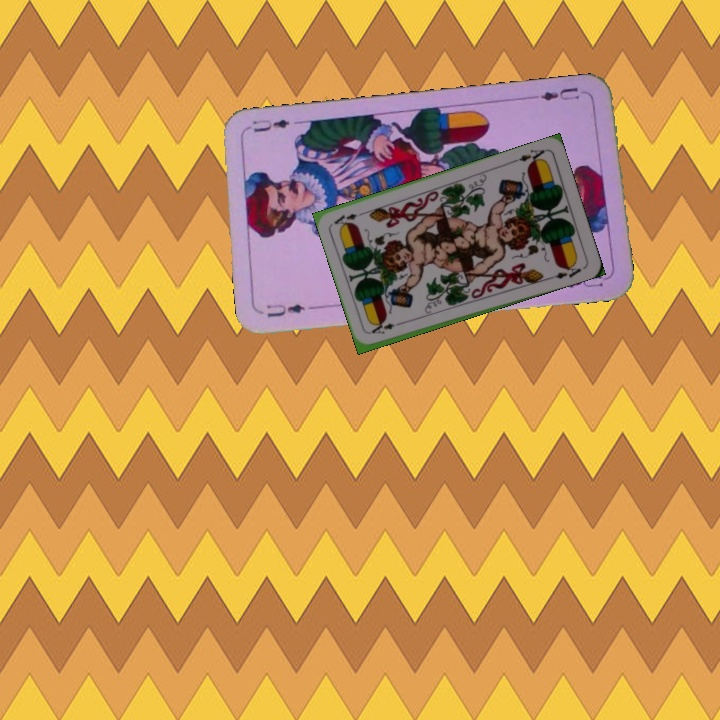EA: (509, 145, 548, 167), (367, 318, 406, 337)
EU: (536, 83, 589, 104), (262, 299, 308, 320)
